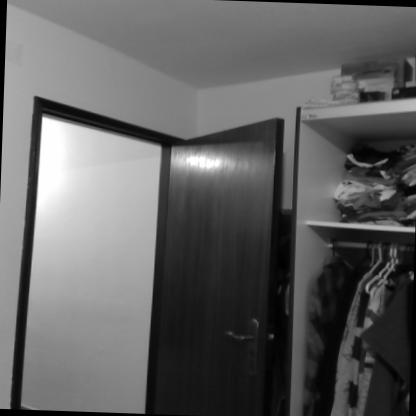open: (17, 84, 290, 416)
